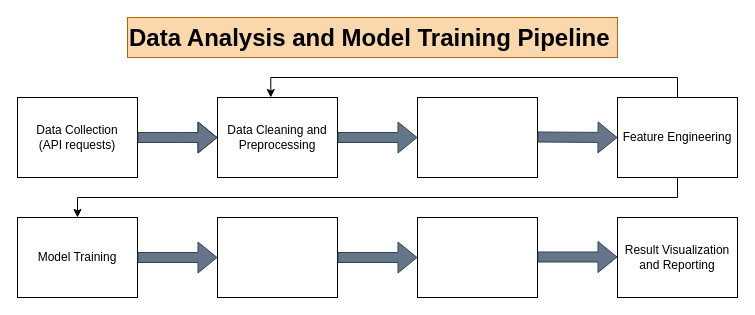
This 755x315 diagram has some shape labels left out. The centre of each missing label's shape, as x and y in pixels:
"Exploratory Data Analysis (EDA)" goes at point (477, 137).
"Model Evaluation" goes at point (477, 257).
"Model Testing" goes at point (277, 257).
